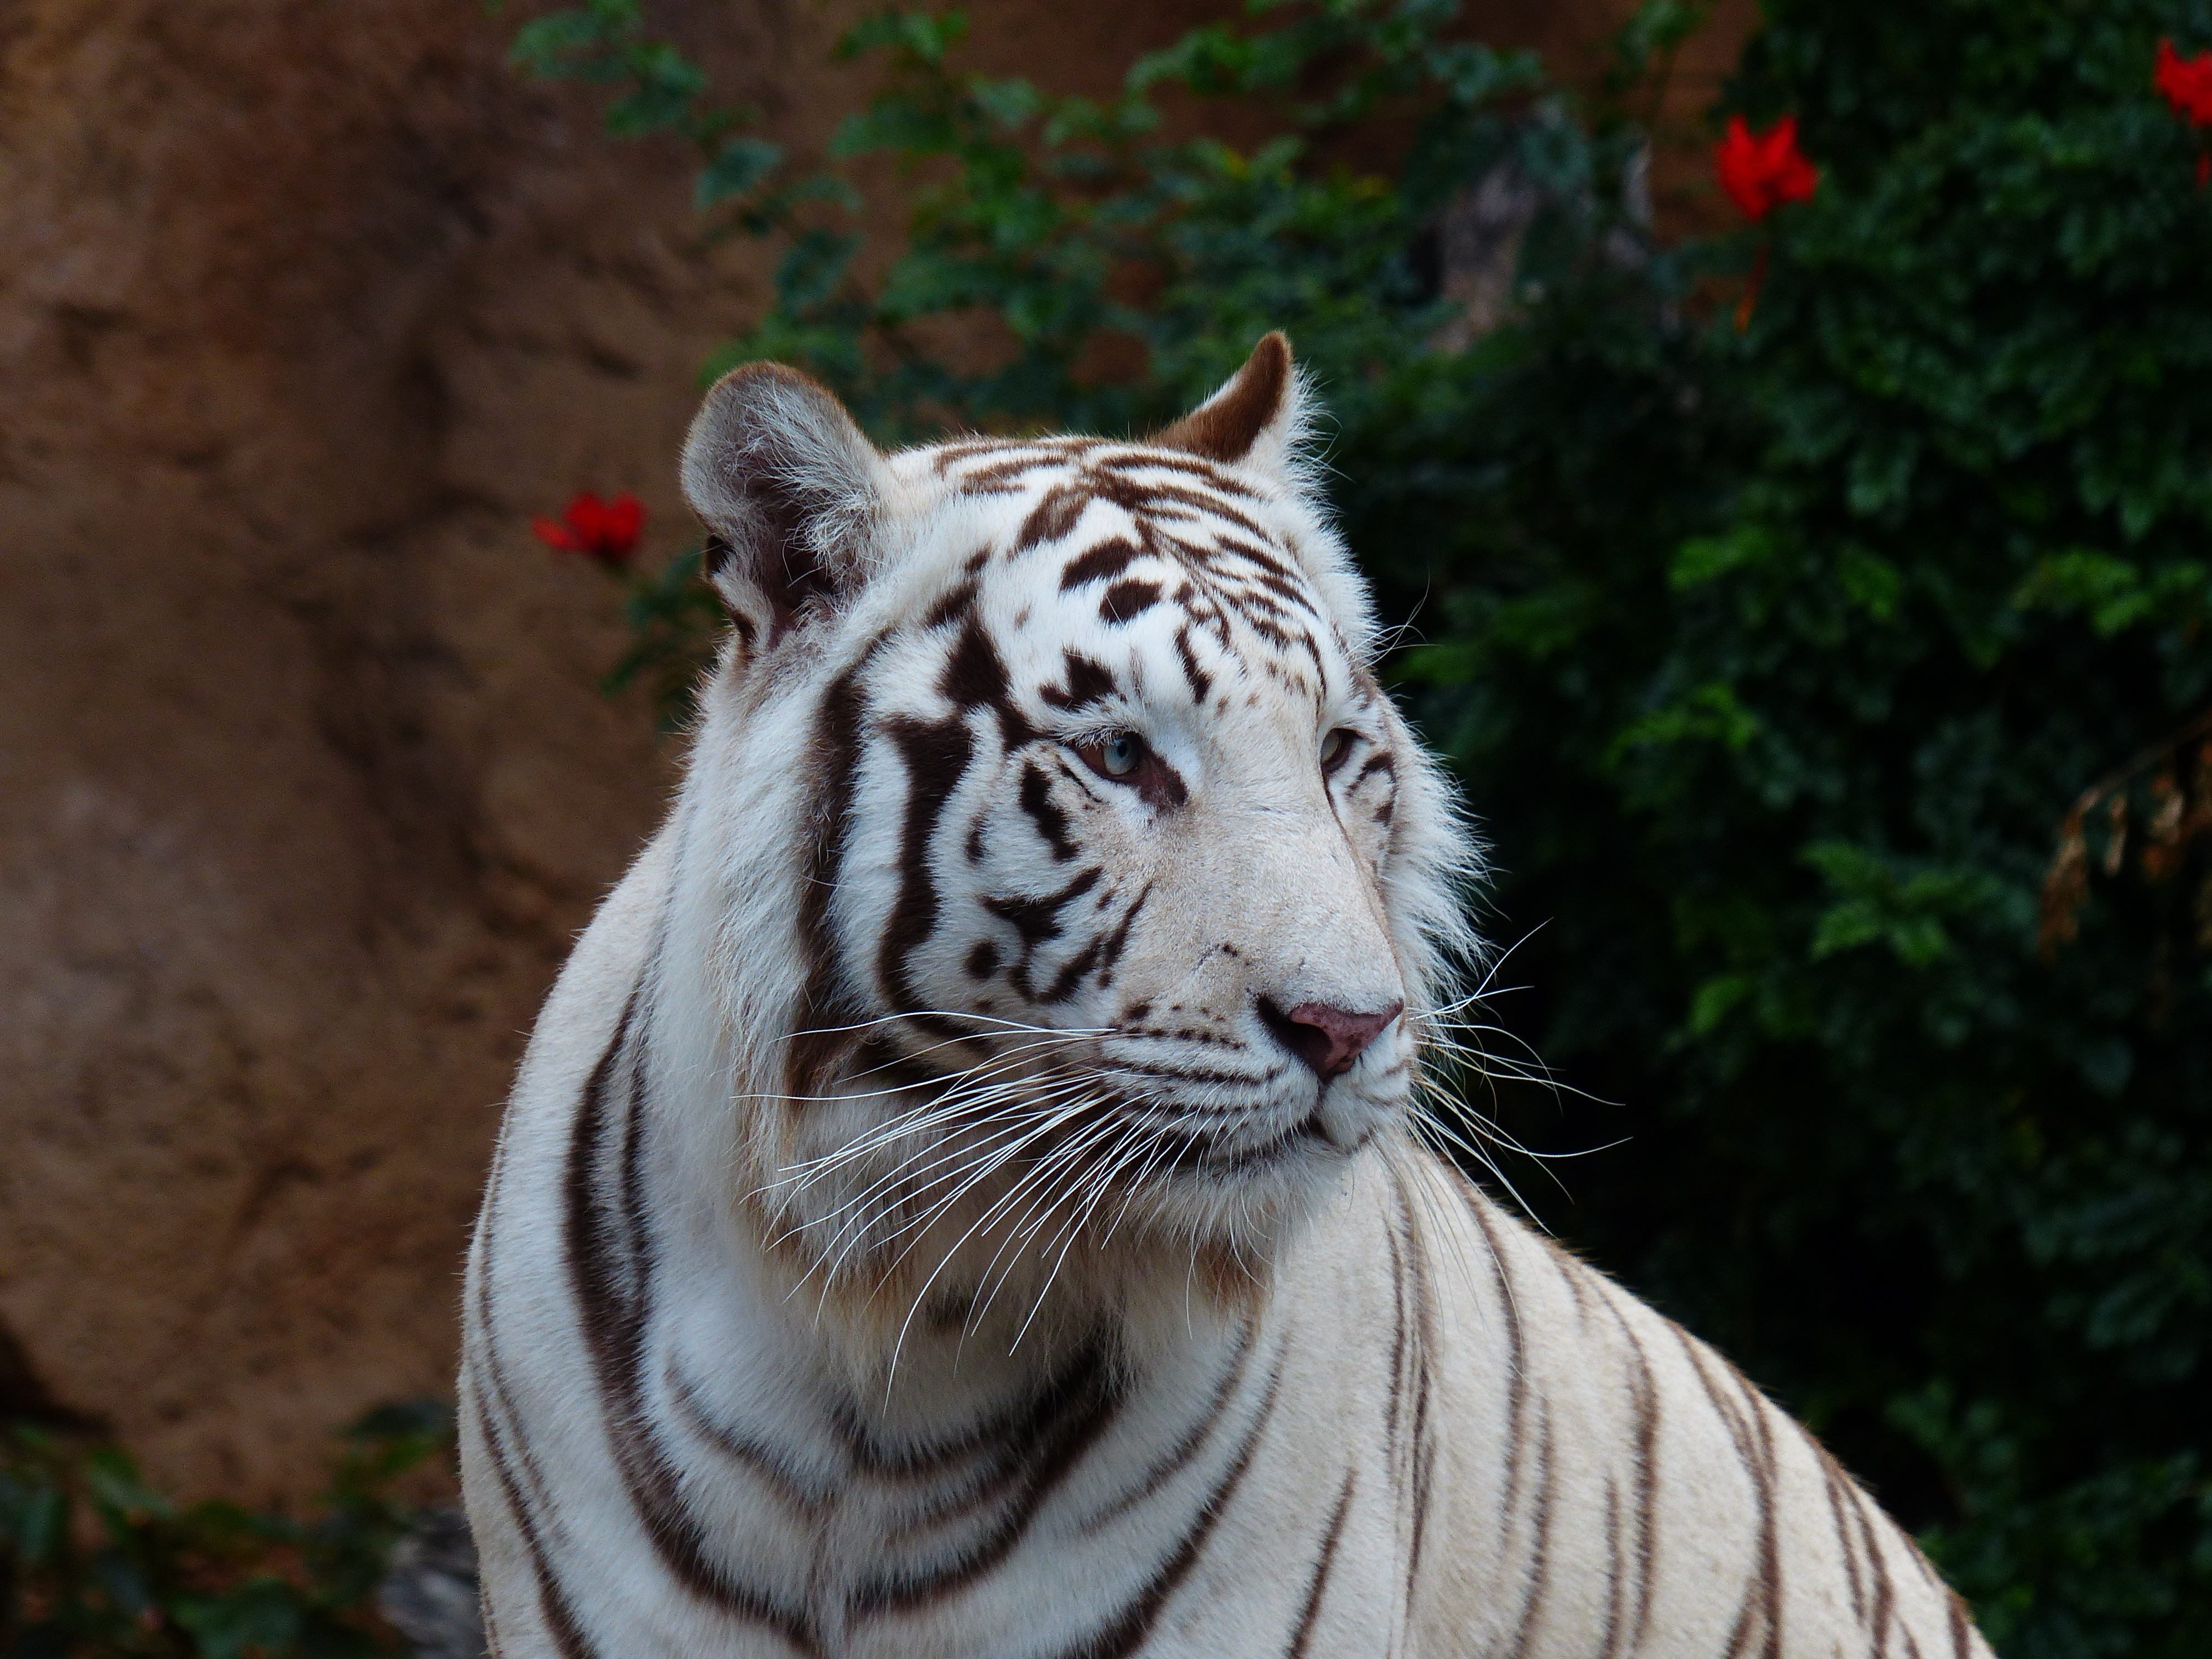tiger: (467, 340, 2019, 1659)
